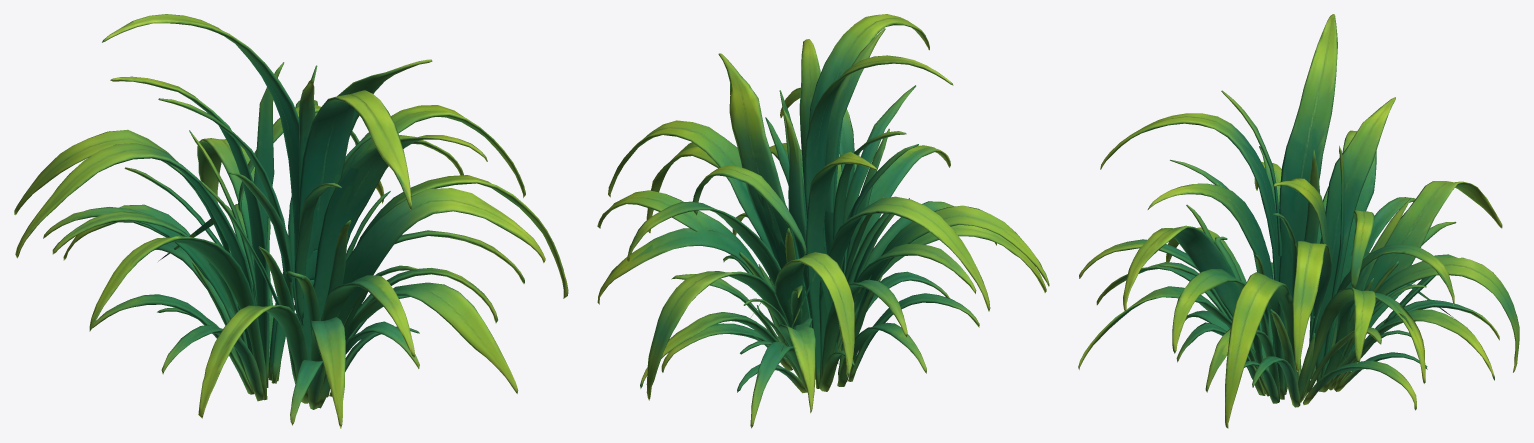
Rendered from pack-ornamental-plant.glb.
The picture shows the model from 3 angles, left to right: view 1: azimuth 30°, elevation 25°; view 2: azimuth 150°, elevation 25°; view 3: azimuth 270°, elevation 25°; orthographic projection. The views are drawn at different scales.
Parts seen in each view (by area): view 1: tripo_node_7fbf1bf0-b453-4f40-9b50-85987b03aee7; view 2: tripo_node_7fbf1bf0-b453-4f40-9b50-85987b03aee7; view 3: tripo_node_7fbf1bf0-b453-4f40-9b50-85987b03aee7.
Part boxes in pixels (bbox=[...]): tripo_node_7fbf1bf0-b453-4f40-9b50-85987b03aee7: bbox=[14, 14, 568, 428]; tripo_node_7fbf1bf0-b453-4f40-9b50-85987b03aee7: bbox=[597, 14, 1049, 428]; tripo_node_7fbf1bf0-b453-4f40-9b50-85987b03aee7: bbox=[1078, 14, 1519, 428].
Bounding box in the file's own units: 0.9657 × 0.7745 × 0.9619.
Materials: 1 (1 with a texture image).
